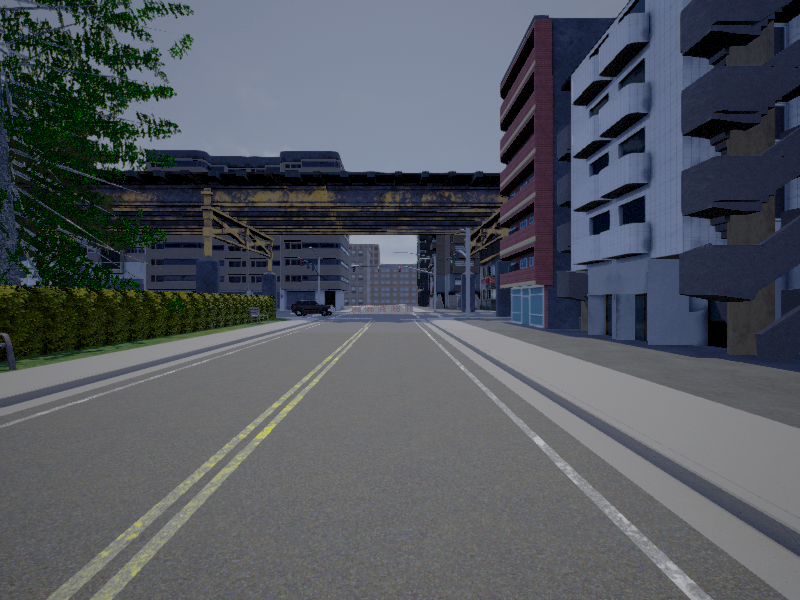Benign: (291, 300, 334, 317)
